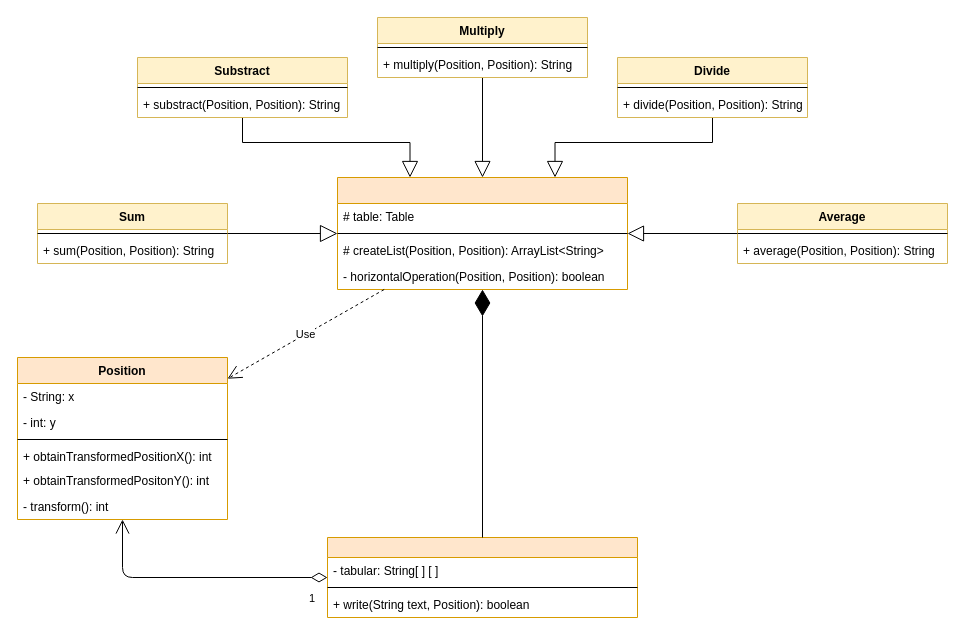
Image size: 965x638. Some labels were removed from this diagram. Here are the shapes that lost their labels. From the top down, the box of each, then its label:
(336, 176, 628, 290): Operator
(326, 536, 638, 618): Table
